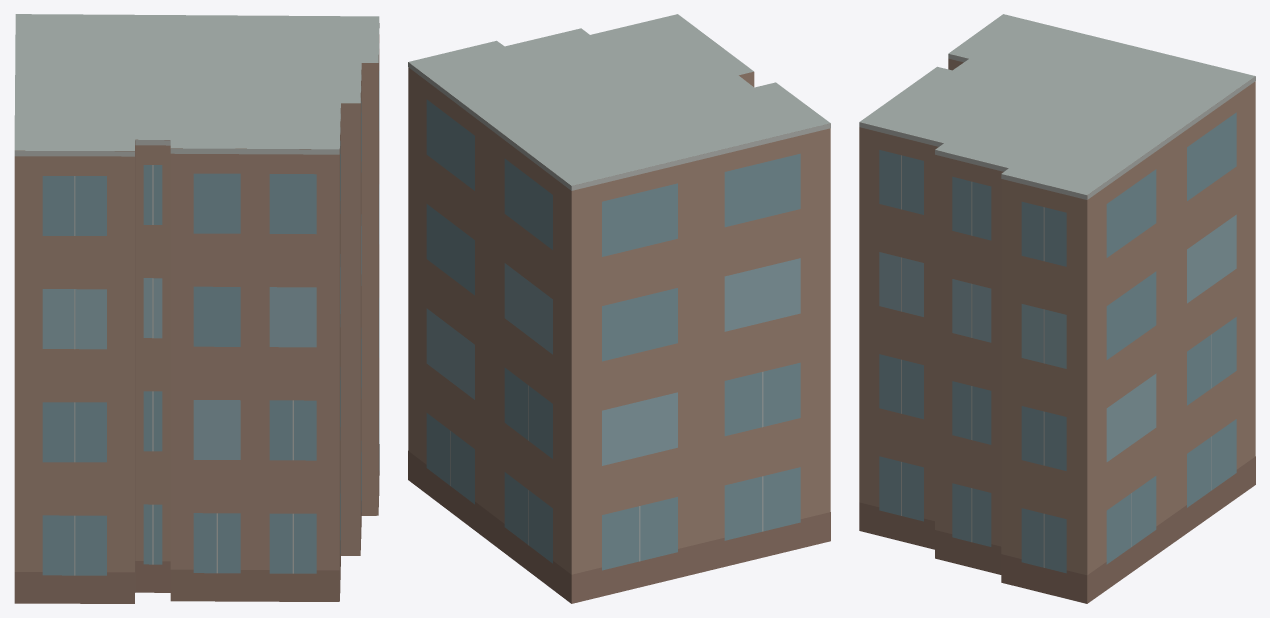
The model's file is survey-upis-32949191.glb.
3 renders of one model, left to right at view 1: azimuth 30°, elevation 25°; view 2: azimuth 150°, elevation 25°; view 3: azimuth 270°, elevation 25°, orthographic. The views are drawn at different scales.
Visible parts, largest first — view 1: survey-upis-32949191.tmp; view 2: survey-upis-32949191.tmp; view 3: survey-upis-32949191.tmp.
Part boxes in pixels (<box>): survey-upis-32949191.tmp: <box>14,14,379,603</box>; survey-upis-32949191.tmp: <box>408,14,830,603</box>; survey-upis-32949191.tmp: <box>859,14,1255,603</box>.
Bounding box in the file's own units: 19.45 × 20.45 × 17.99.
